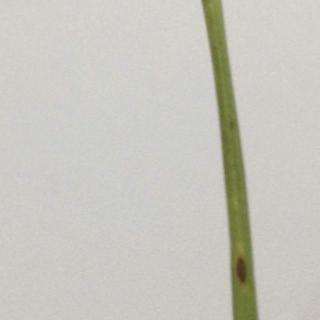Blast: (226, 217, 264, 320)
